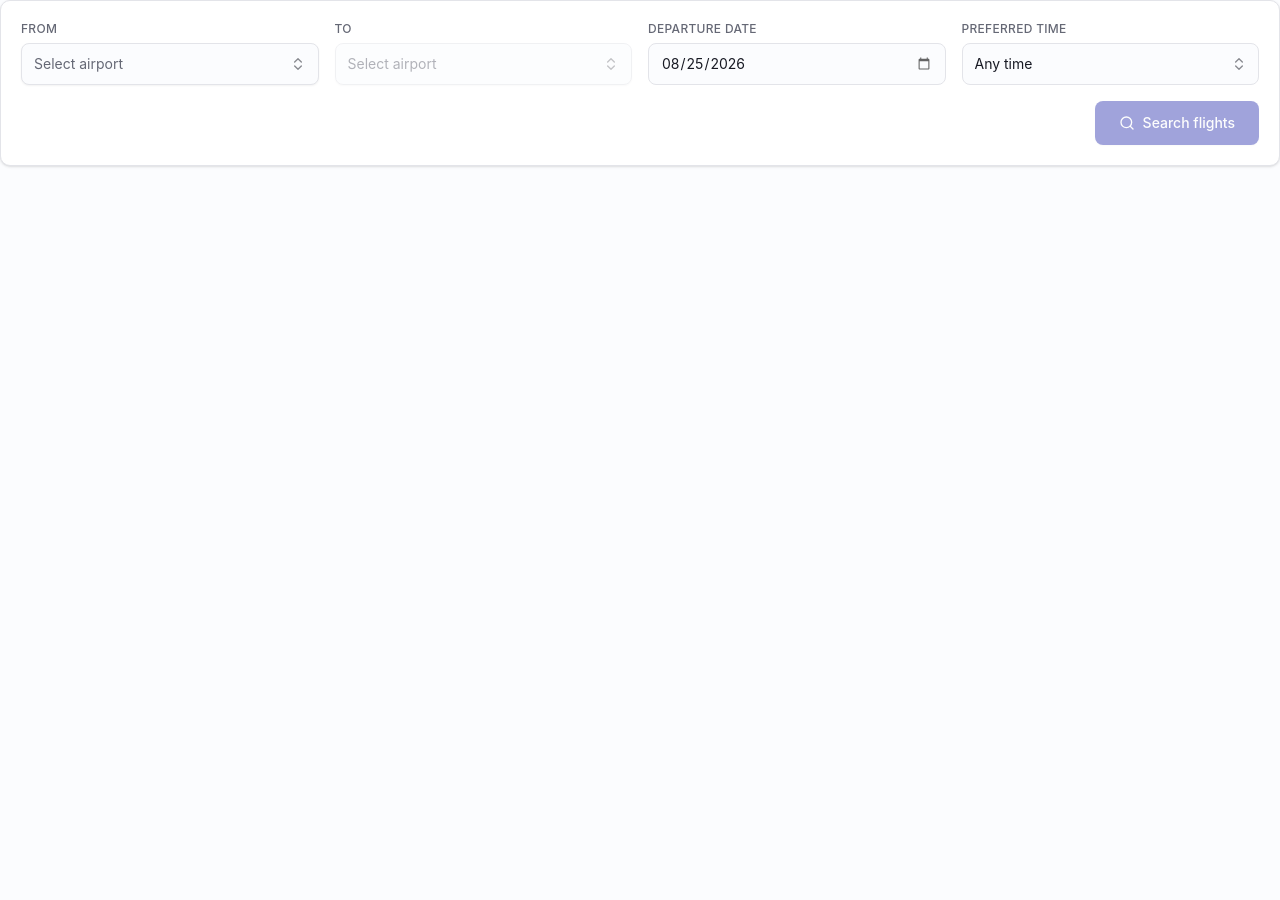
Test: SearchForm › marks destinations the origin cannot reach as unavailable
The width and height of the screenshot is (1280, 900).
Click the dropdown named "From" at point(78, 64), box [21,43,318,85]
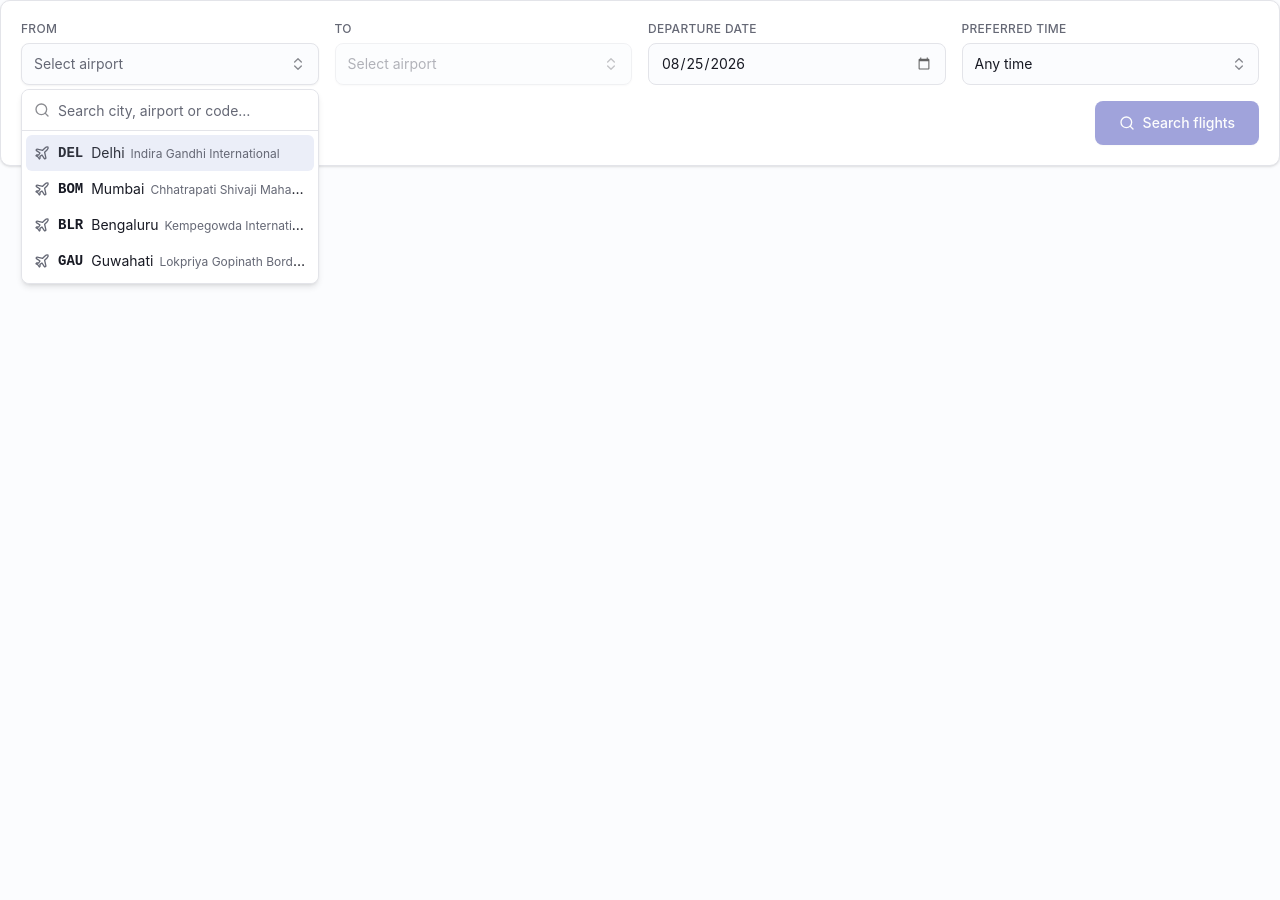
Click the option "Delhi" at point(170, 153), box [26,135,314,171]
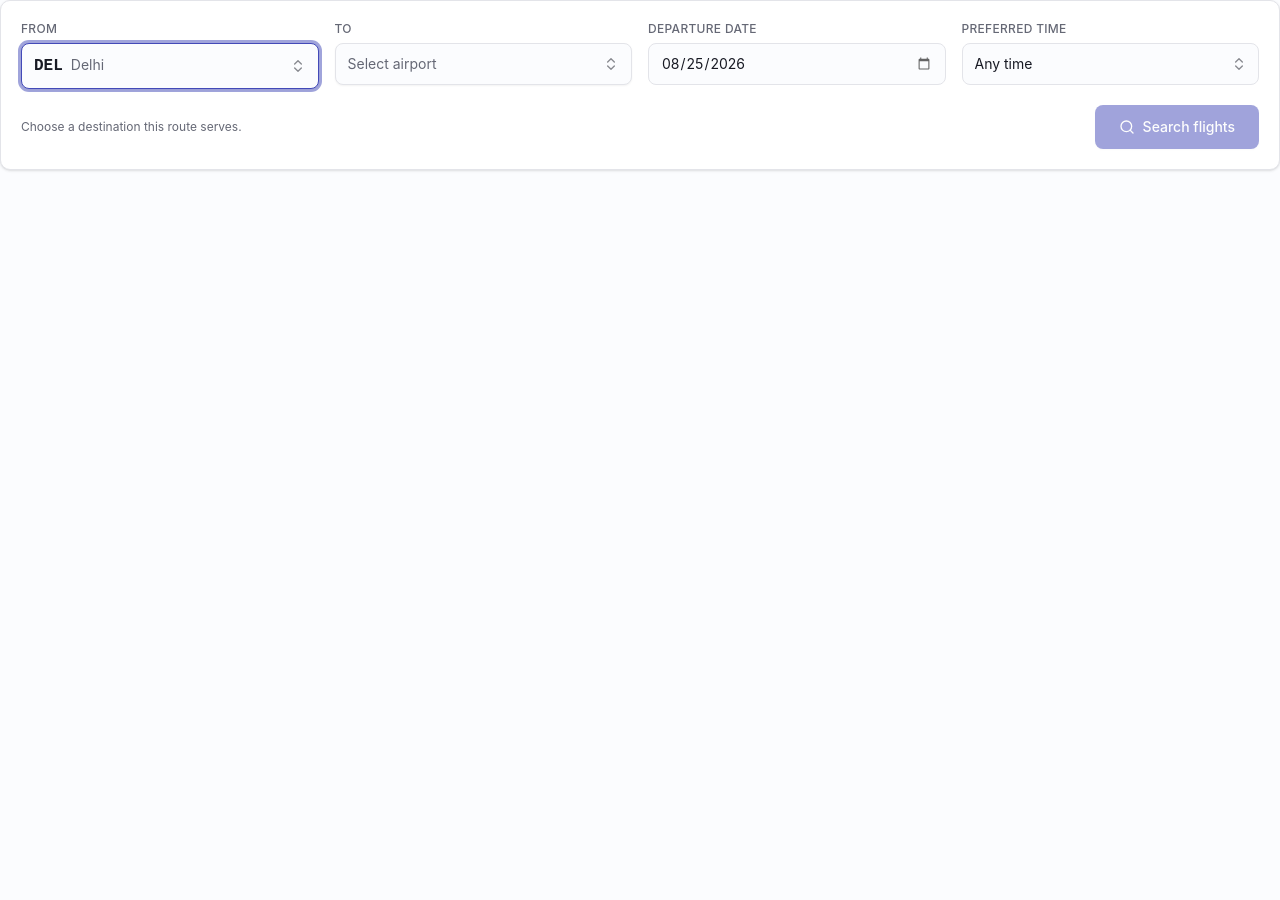
Click the dropdown named "To" at point(392, 64), box [334,43,632,85]
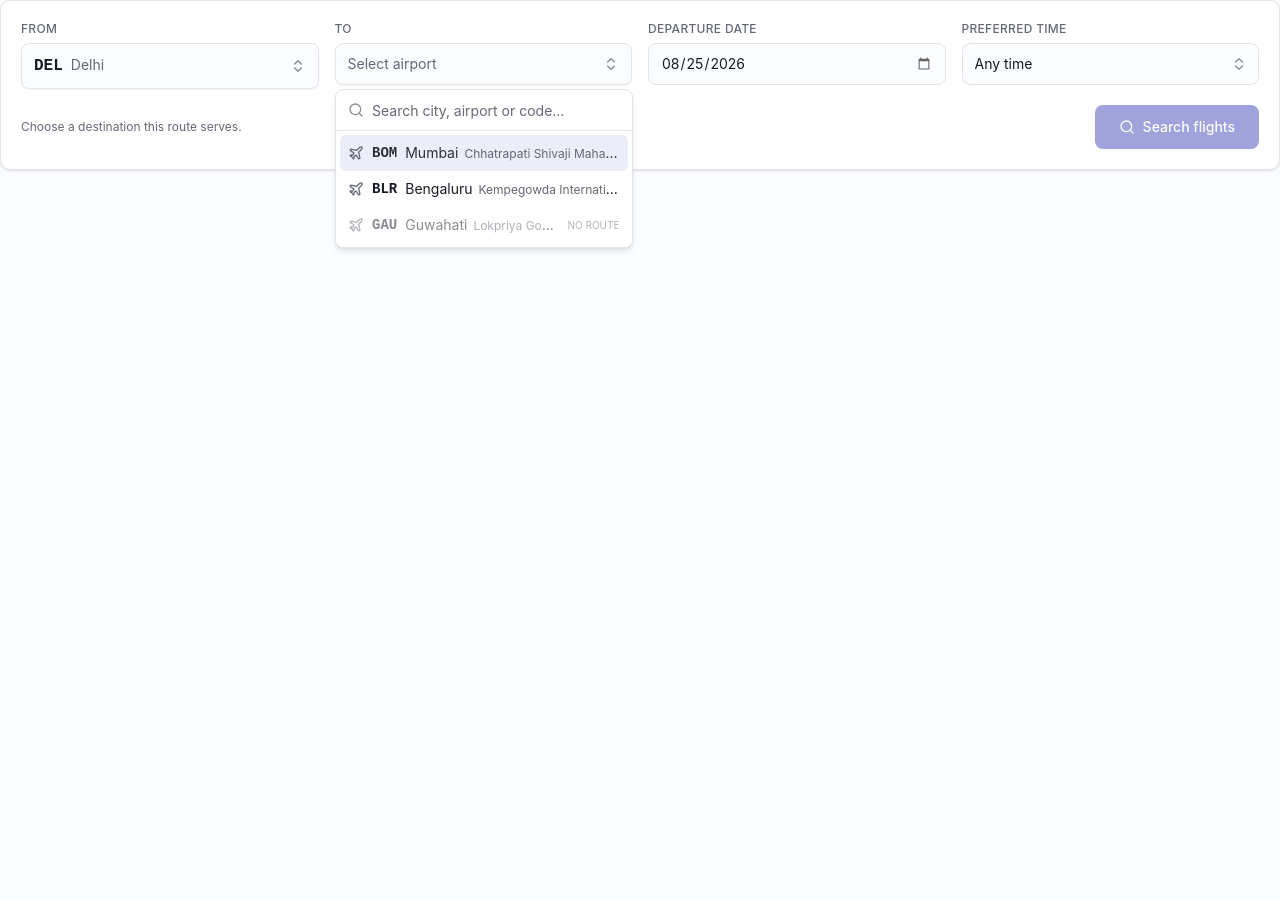
Check: the option "Guwahati" shows "no route", box [348,216,632,233]
